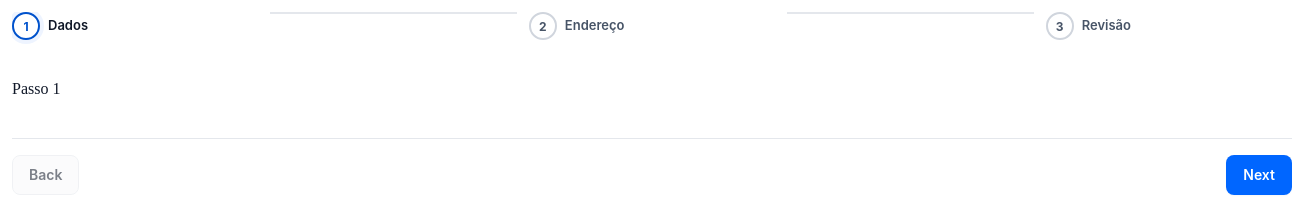
Test: Wizard › completes a forward jump when every gate passes
Click the button "3 Revisão": (1088, 26) [1046,12,1131,40]
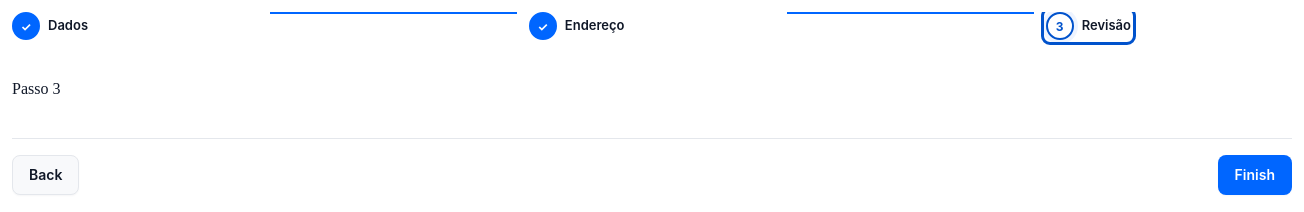
expect the text "Passo 3" is shown: met, box [12,80,60,97]
